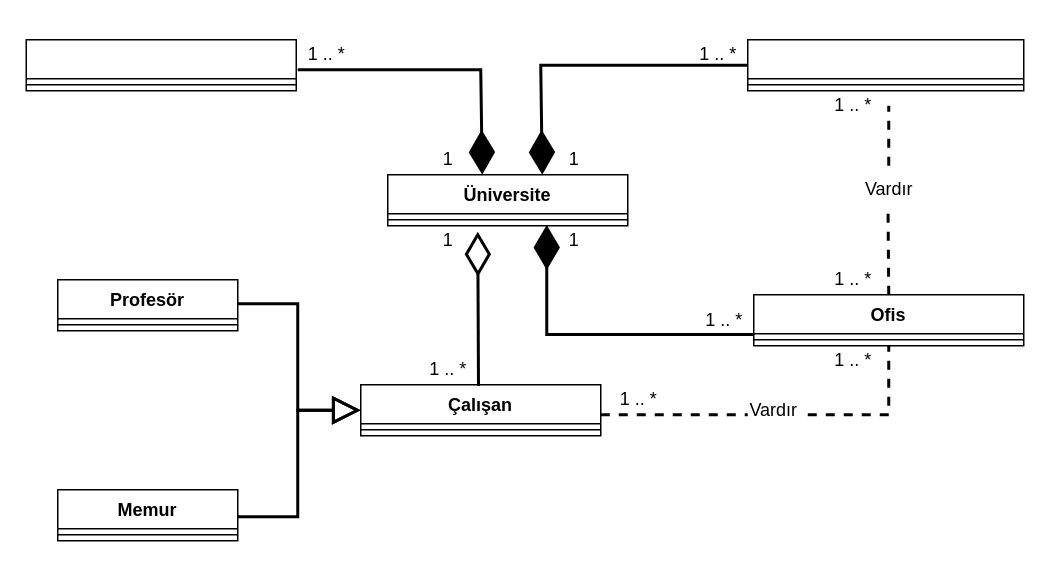
This 1050x567 diagram has some shape labels left out. The shapes that lost their labels are listed below. From the top down, each one's centre as x and y in pixels, then its label:
pixel 160 64: Sınıflık
pixel 885 64: Departman
